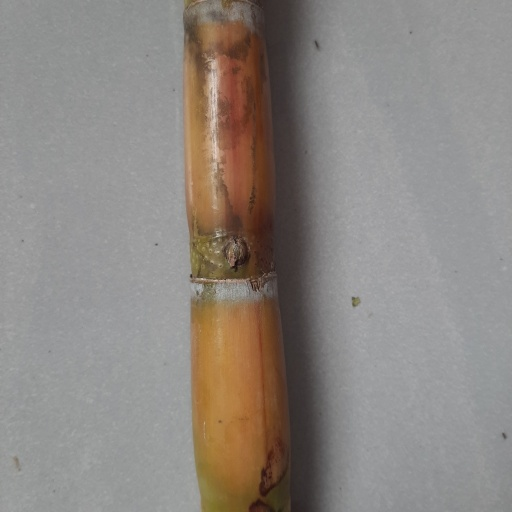Bud: (219, 235, 249, 273)
